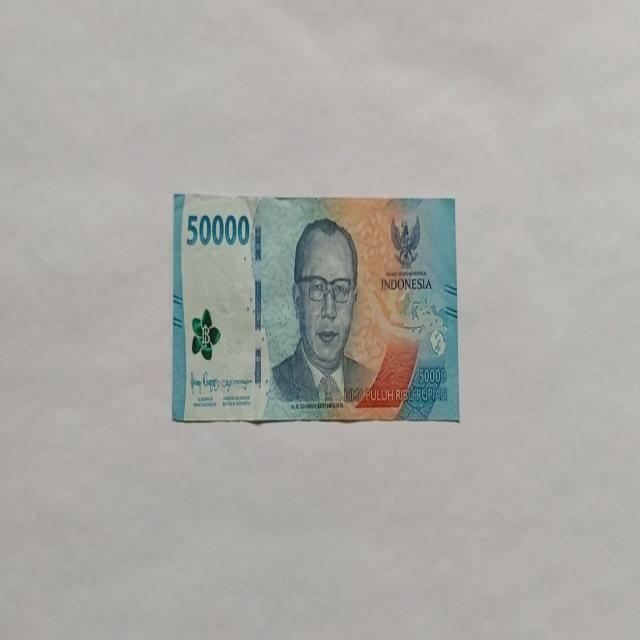lima puluh ribu rupiah: (170, 191, 460, 425), (267, 215, 378, 410)
